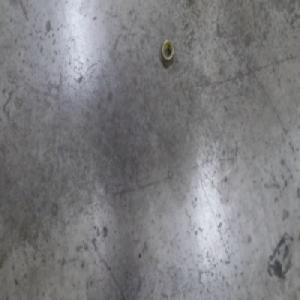Nut: (161, 38, 175, 69)
